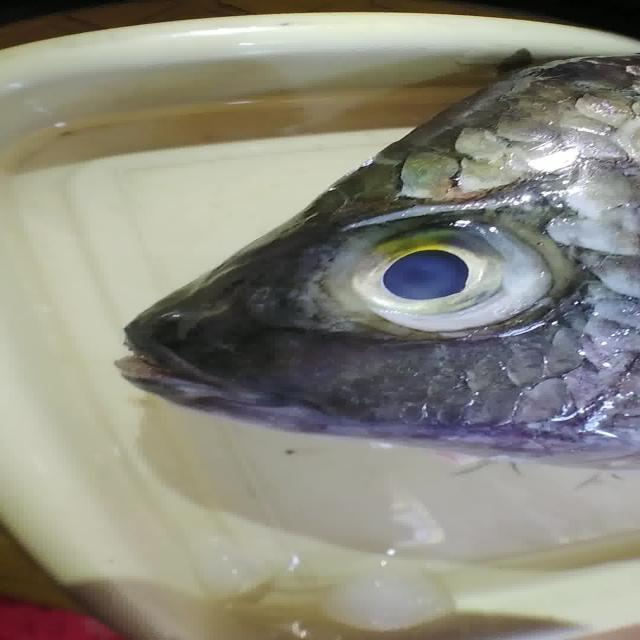Fresh: (291, 222, 618, 351)
